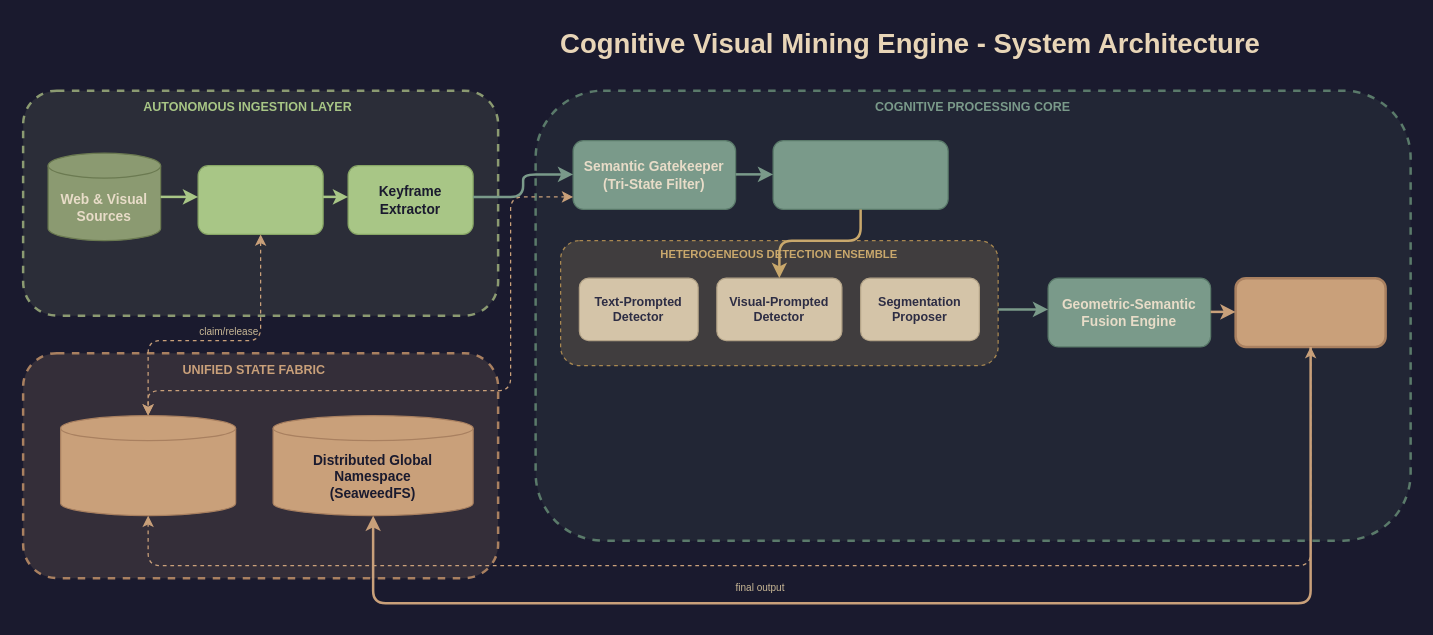
Image size: 1433x635. Some labels were removed from this diagram. The centre of each missing label's shape, as x and y in pixels:
"Atomic State Registry (PostgreSQL)" belongs at point 147,465.
"Cognitive Validator (VLM Reasoner)" belongs at point 1310,312.
"Distributed Crawler" belongs at point 260,199.
"Vector Deduplication (Aspect-Weighted)" belongs at point 860,174.
